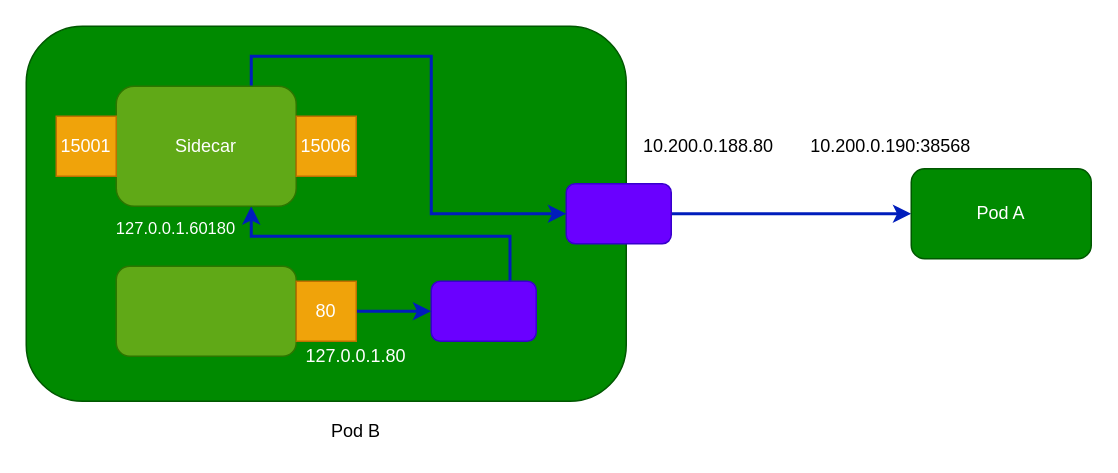
Image size: 1118x473. Some labels were removed from this diagram. Each missing label, with the box of its shape:
APP: (115, 265, 296, 356)
eth0: (565, 182, 671, 244)
lo: (430, 280, 536, 341)
